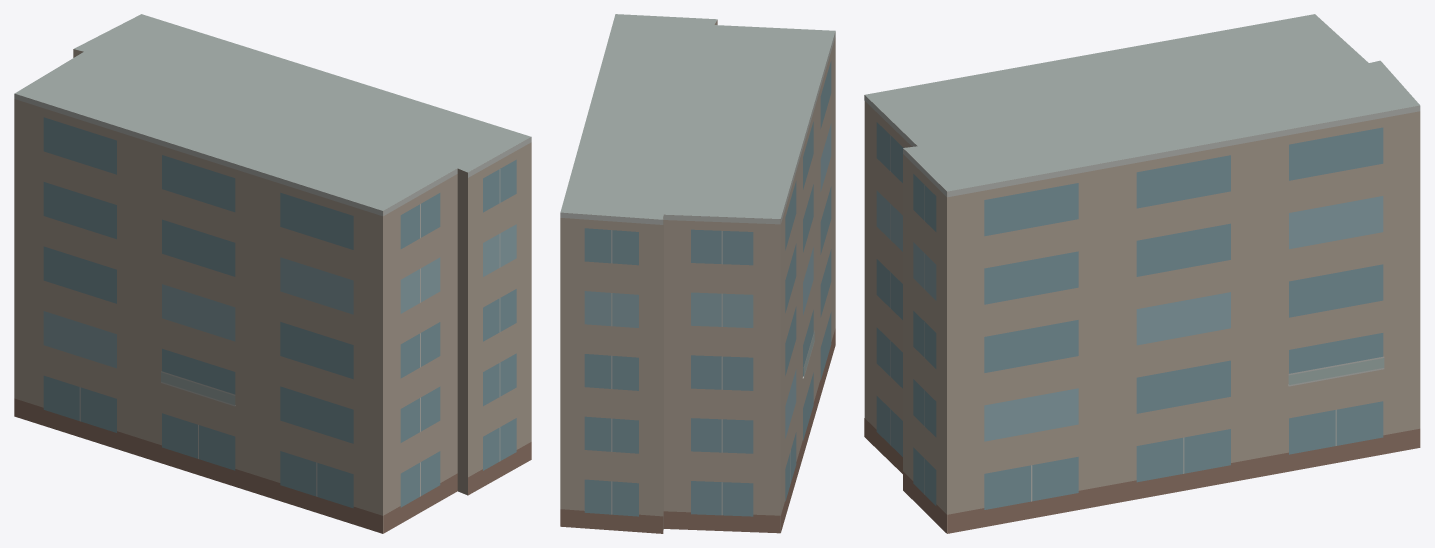
The model's file is survey-upis-32823067.glb.
3 renders of one model, left to right at view 1: azimuth 30°, elevation 25°; view 2: azimuth 150°, elevation 25°; view 3: azimuth 270°, elevation 25°, orthographic. The views are drawn at different scales.
Visible parts, largest first — view 1: survey-upis-32823067.tmp; view 2: survey-upis-32823067.tmp; view 3: survey-upis-32823067.tmp.
Boxes of the visible parts, x1=… form: survey-upis-32823067.tmp: x1=14, y1=14, x2=531, y2=533; survey-upis-32823067.tmp: x1=560, y1=14, x2=835, y2=533; survey-upis-32823067.tmp: x1=864, y1=14, x2=1420, y2=533.
Size of the model in its own units: 16.26 by 14.6 by 21.5.
